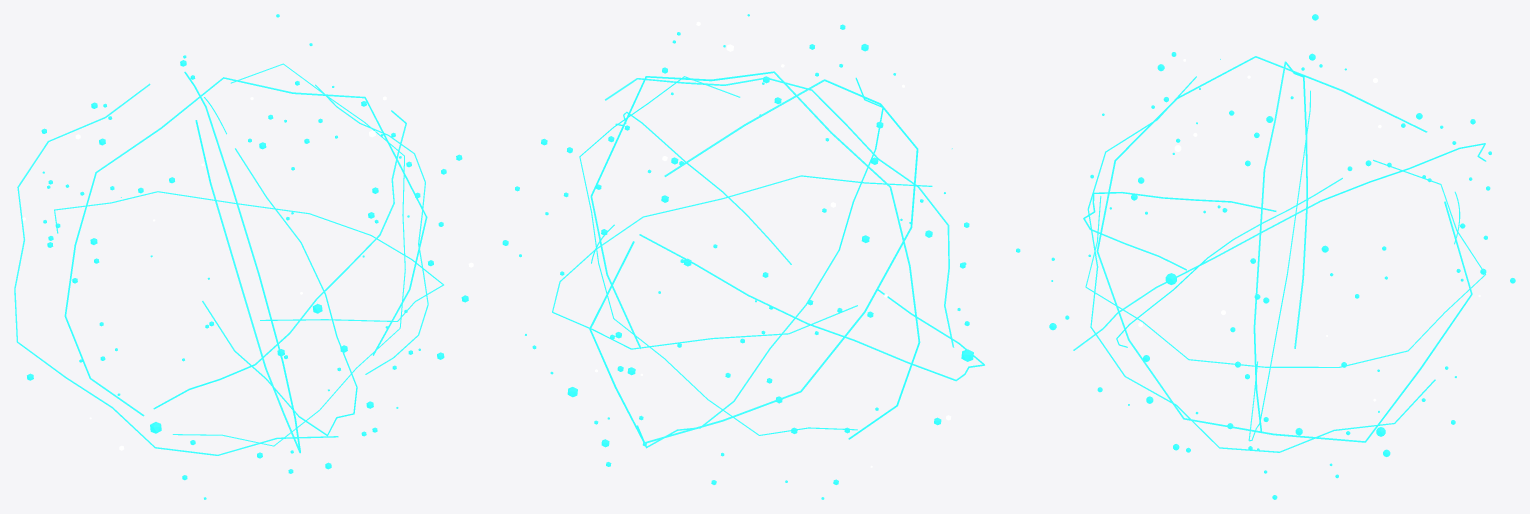
File: warp_bubble_shimmer.glb
The picture shows the model from 3 angles, left to right: view 1: azimuth 30°, elevation 25°; view 2: azimuth 150°, elevation 25°; view 3: azimuth 270°, elevation 25°; orthographic projection. The views are drawn at different scales.
Parts seen in each view (by area): view 1: warp_bubble_shimmer; view 2: warp_bubble_shimmer; view 3: warp_bubble_shimmer.
Part boxes in pixels (x1,y1,x2,y2): warp_bubble_shimmer: [14, 14, 473, 499]; warp_bubble_shimmer: [502, 14, 1020, 499]; warp_bubble_shimmer: [1049, 14, 1515, 499].
Bounding box in the file's own units: 4.99 × 5.02 × 4.81.
